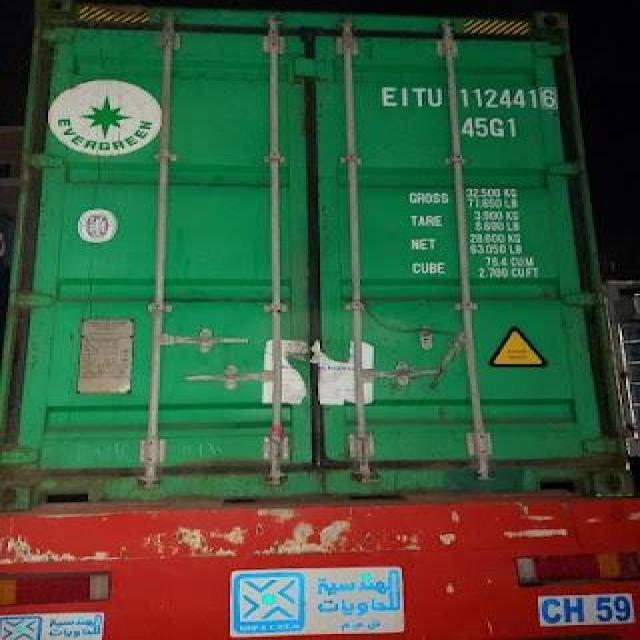ISO: (463, 115, 522, 140)
container_number: (388, 85, 558, 114)
